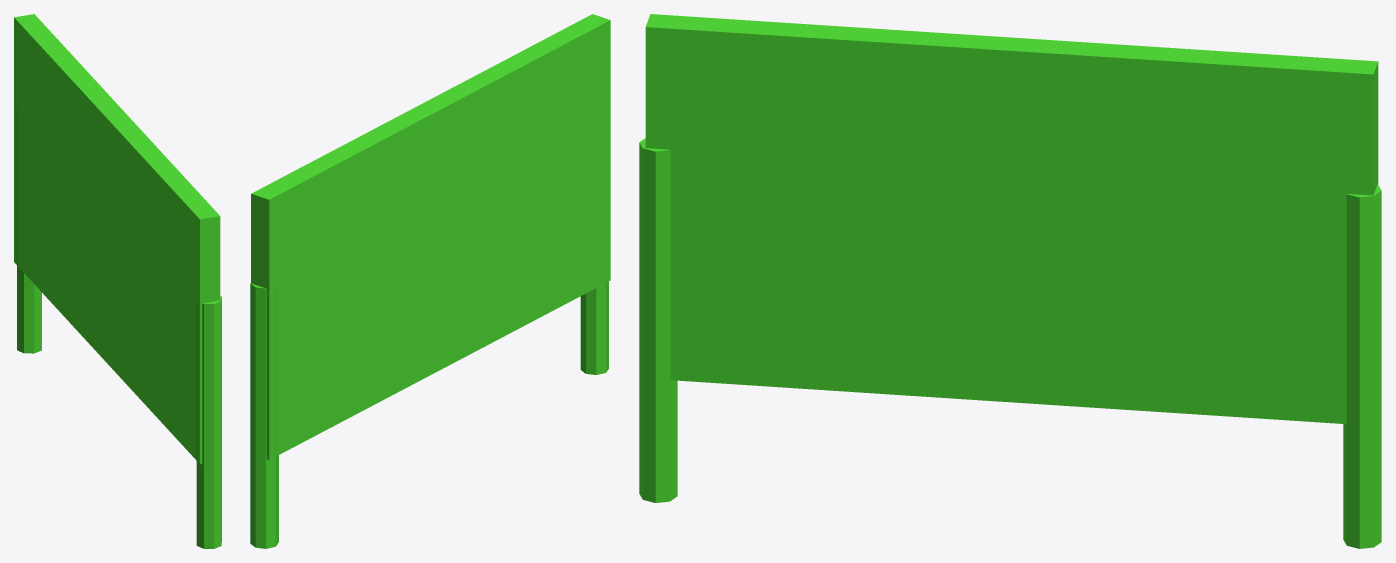
File: cylinder.002.001_lev1.glb
3 views of the same model, side by side, from view 1: azimuth 30°, elevation 25°; view 2: azimuth 150°, elevation 25°; view 3: azimuth 270°, elevation 25° (orthographic). The views are drawn at different scales.
Visible parts, largest first — view 1: cylinder.002.001_lev1; view 2: cylinder.002.001_lev1; view 3: cylinder.002.001_lev1.
Boxes of the visible parts, left/top/right/bottom form: cylinder.002.001_lev1: left=14, top=14, right=221, bottom=548; cylinder.002.001_lev1: left=250, top=14, right=610, bottom=548; cylinder.002.001_lev1: left=639, top=14, right=1381, bottom=548.
Bounding box in the file's own units: 1.03 × 3.65 × 5.19.
